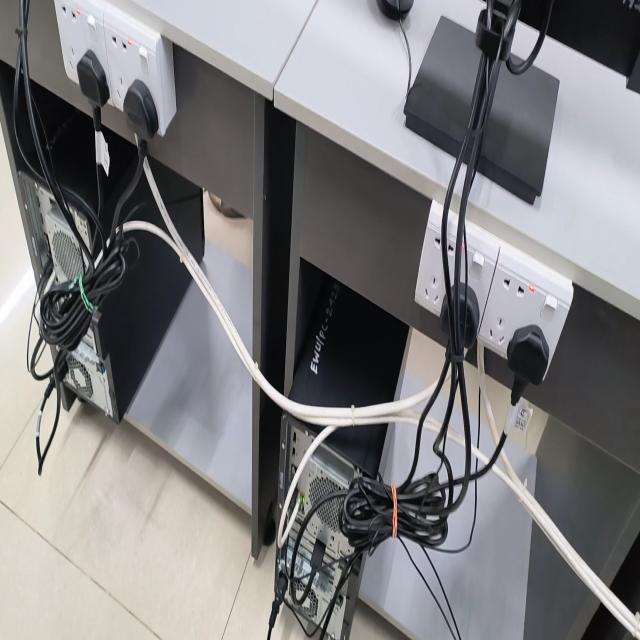Cpu: (20, 101, 206, 423), (270, 272, 415, 639)
Monitor: (401, 0, 640, 205)
Mouse: (377, 0, 414, 21)
